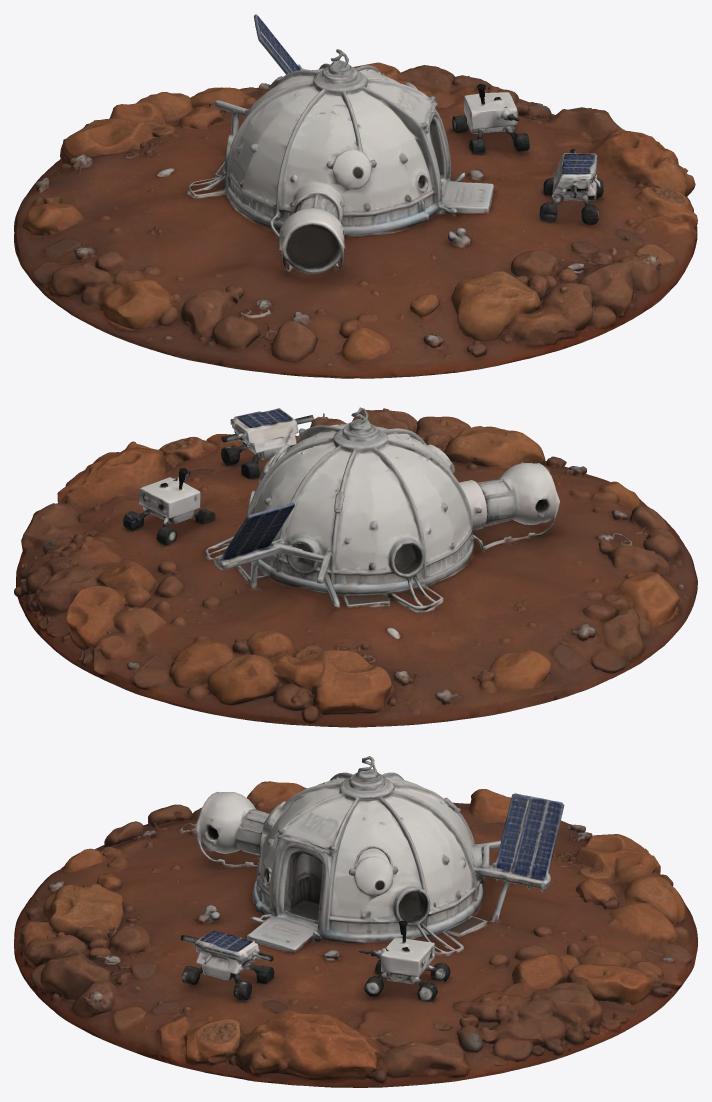
Rendered from mars_base.glb.
3 views of the same model, one above another, from view 1: azimuth 30°, elevation 25°; view 2: azimuth 150°, elevation 25°; view 3: azimuth 270°, elevation 25° (orthographic).
Parts seen in each view (by area): view 1: tripo_node_5bfb73cf-337b-40f8-8a02-5dfe8e00ba3b; view 2: tripo_node_5bfb73cf-337b-40f8-8a02-5dfe8e00ba3b; view 3: tripo_node_5bfb73cf-337b-40f8-8a02-5dfe8e00ba3b.
Boxes of the visible parts, x1=… form: tripo_node_5bfb73cf-337b-40f8-8a02-5dfe8e00ba3b: x1=14, y1=14, x2=697, y2=378; tripo_node_5bfb73cf-337b-40f8-8a02-5dfe8e00ba3b: x1=14, y1=407, x2=697, y2=727; tripo_node_5bfb73cf-337b-40f8-8a02-5dfe8e00ba3b: x1=14, y1=756, x2=697, y2=1087.
Bounding box in the file's own units: 0.979 × 0.2885 × 0.9786.
1 material, 1 textured.
